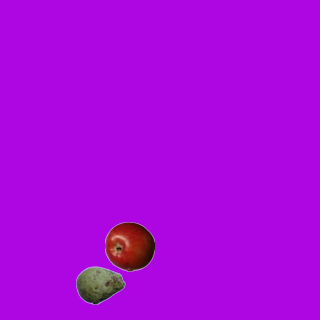Apple Braeburn: (104, 221, 154, 271)
Pear Stone: (75, 260, 125, 310)
